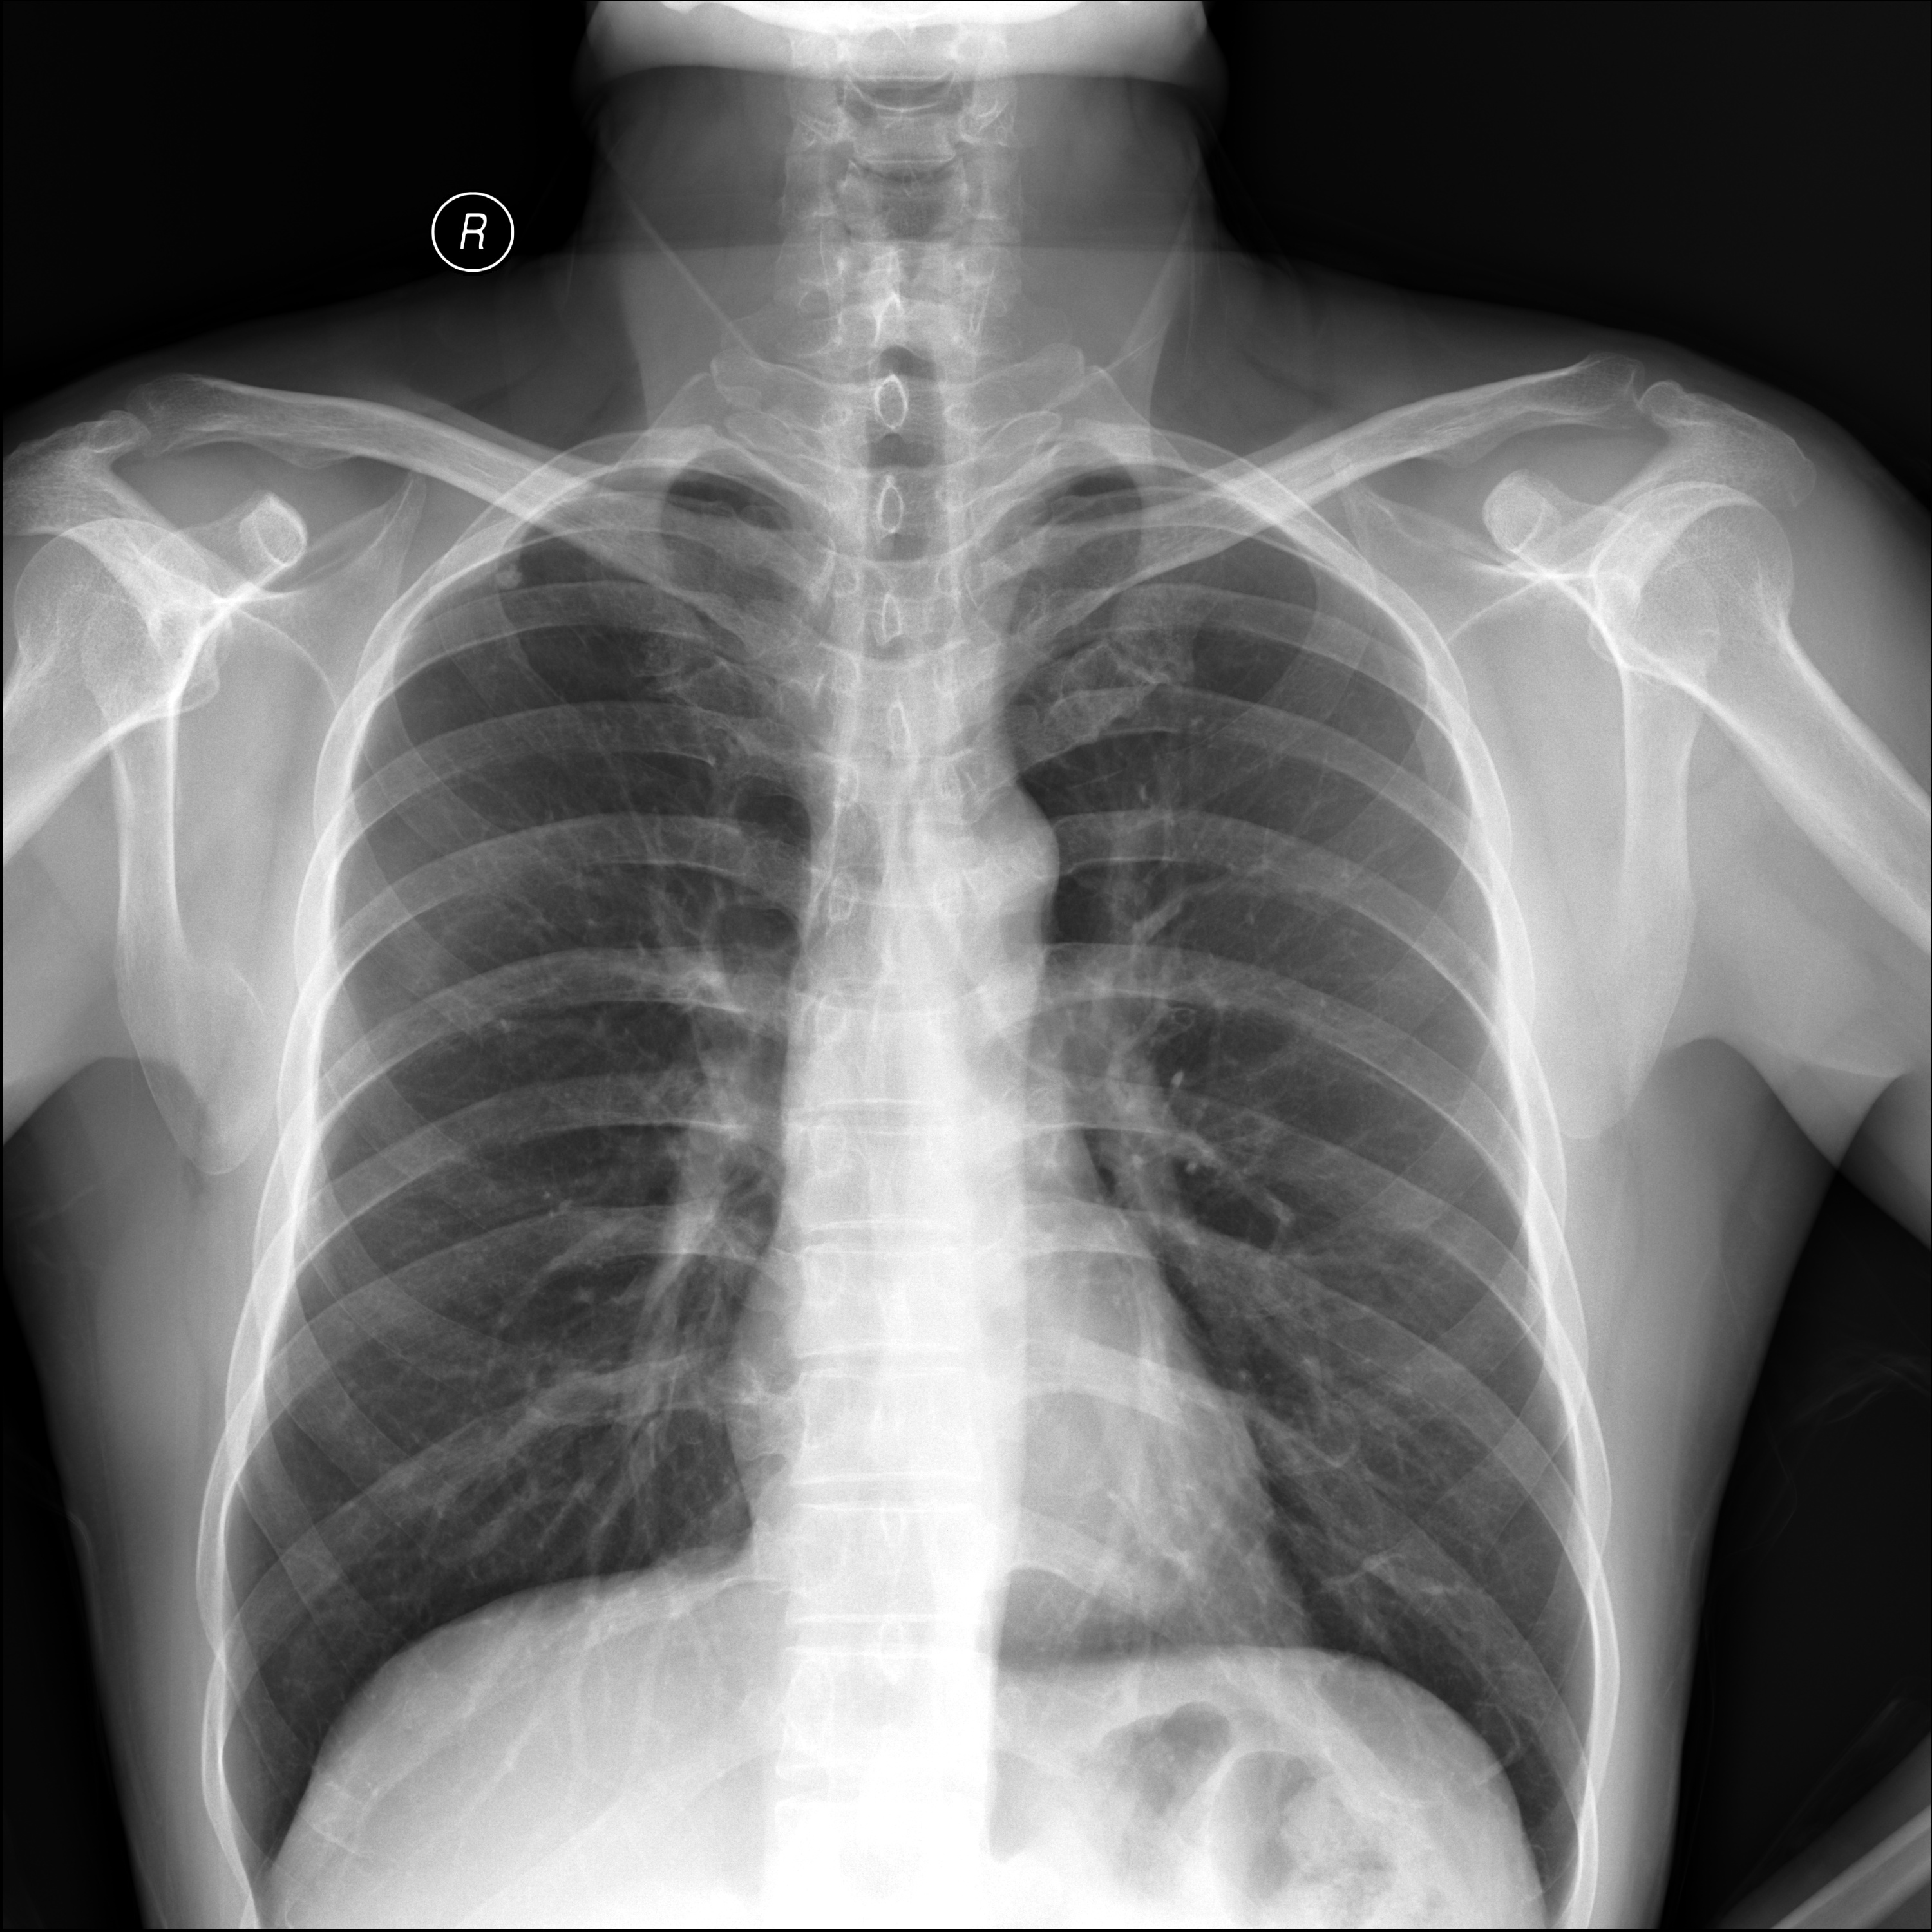nodule: (448, 538, 554, 639)
